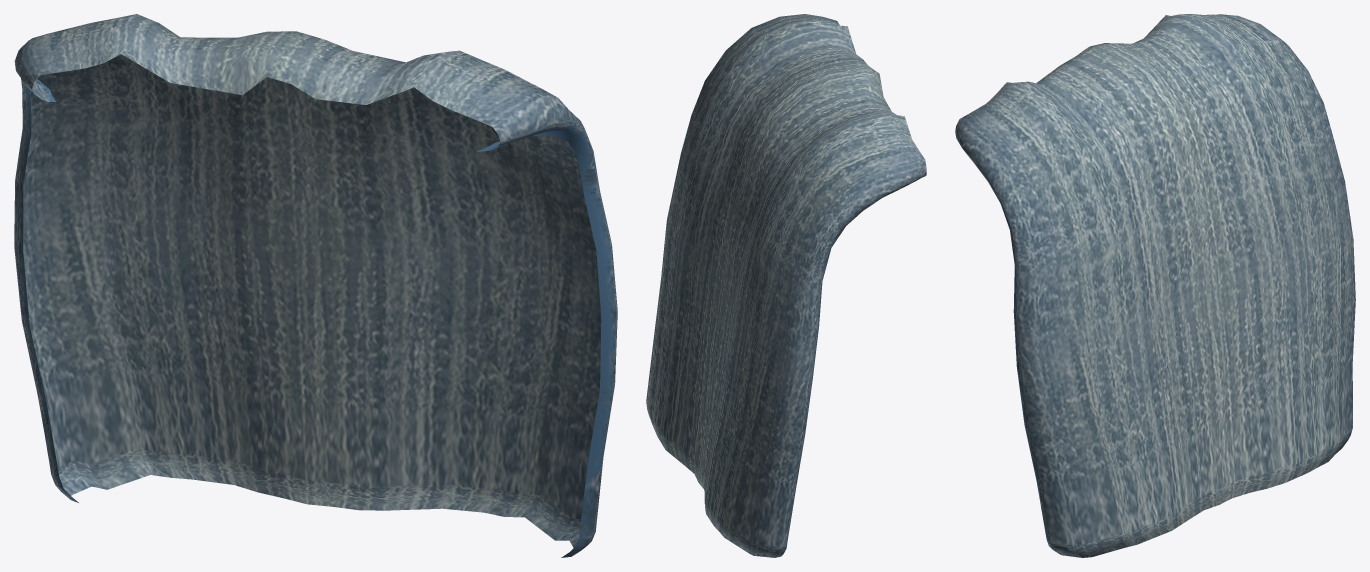
File: WatervalMesh.fbx
3 renders of one model, left to right at view 1: azimuth 30°, elevation 25°; view 2: azimuth 150°, elevation 25°; view 3: azimuth 270°, elevation 25°, orthographic. The views are drawn at different scales.
Parts seen in each view (by area): view 1: WatervalPlane; view 2: WatervalPlane; view 3: WatervalPlane.
Part boxes in pixels (<box>): WatervalPlane: <box>14,14,617,557</box>; WatervalPlane: <box>646,14,926,557</box>; WatervalPlane: <box>955,14,1355,557</box>.
Bounding box in the file's own units: 38.19 × 43.13 × 38.21.
1 material, 1 textured.
